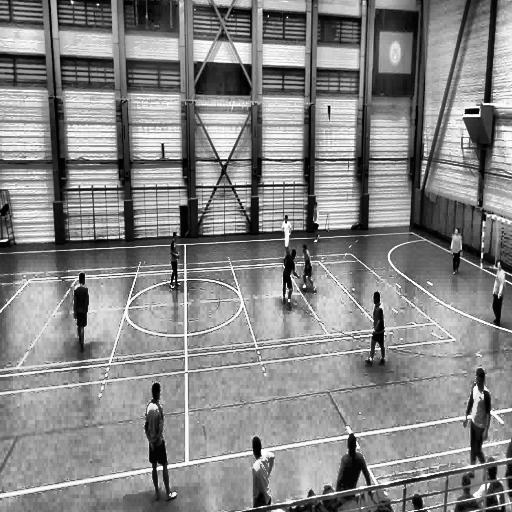ball: (302, 282, 307, 292)
player: (144, 381, 178, 502), (463, 368, 491, 474), (252, 437, 274, 512), (364, 291, 384, 366), (75, 273, 90, 352), (283, 248, 300, 309), (492, 260, 506, 325), (504, 407, 512, 512), (302, 244, 316, 292), (170, 230, 180, 288), (450, 228, 462, 276), (282, 216, 292, 256), (312, 202, 319, 243)
